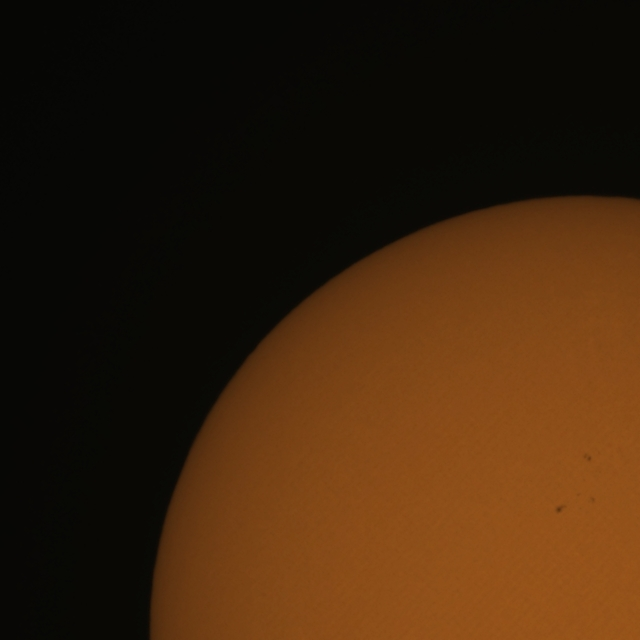sunspot: (574, 492, 595, 509), (554, 502, 568, 515), (582, 452, 592, 463), (588, 495, 596, 505)
